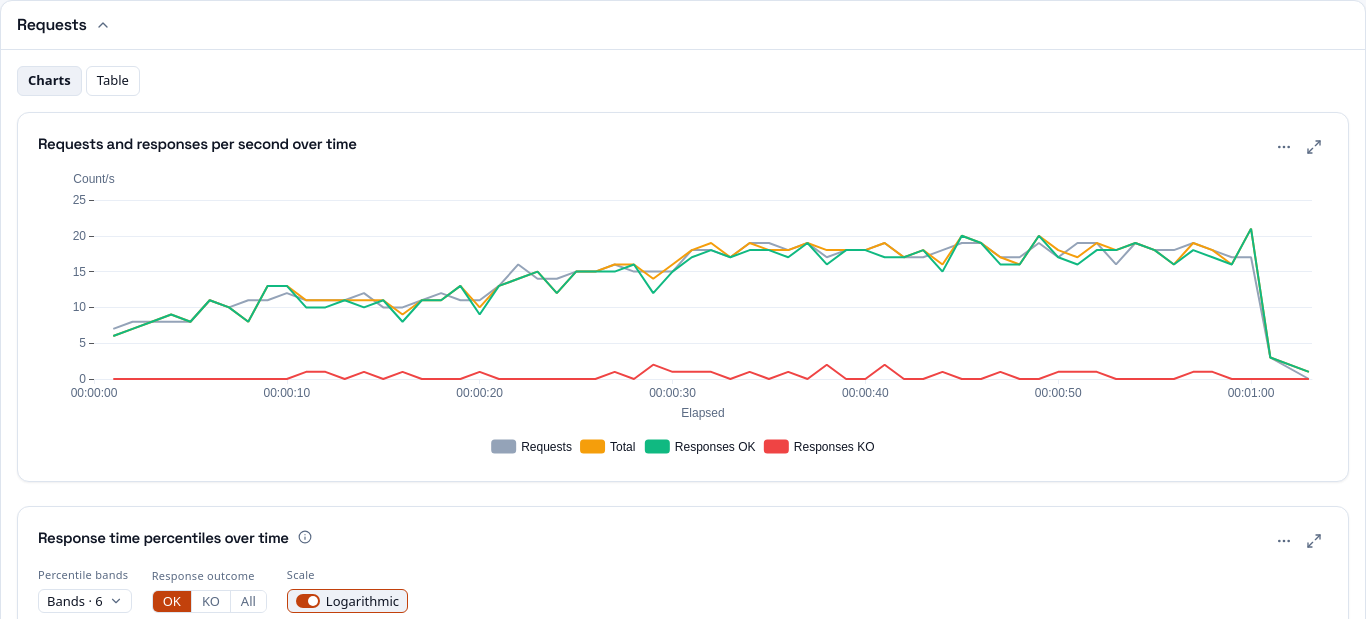
Test case: RunReport — GE’s sections › the Statistics info for a exact-v1 run says what it should
The image size is (1366, 619).
Click the button "Table".
click(113, 81)  # box [86,66,140,96]
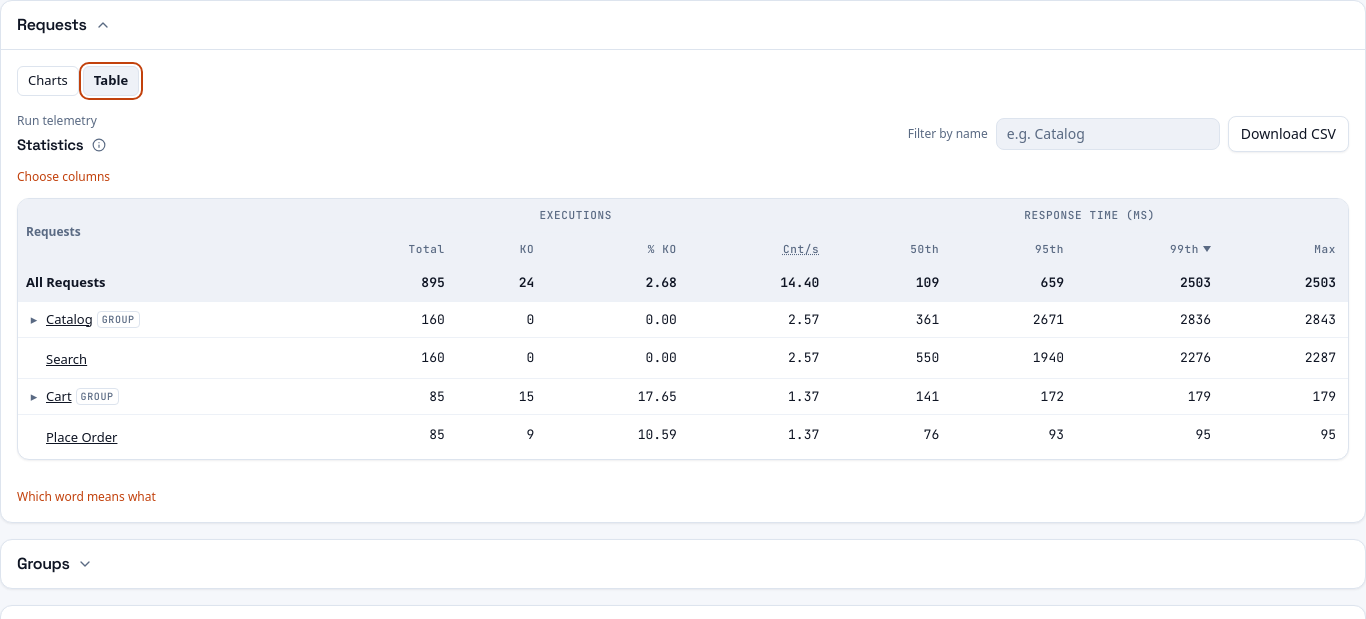
Expected: the table named "statistics" is shown, [18,199,1348,455]
